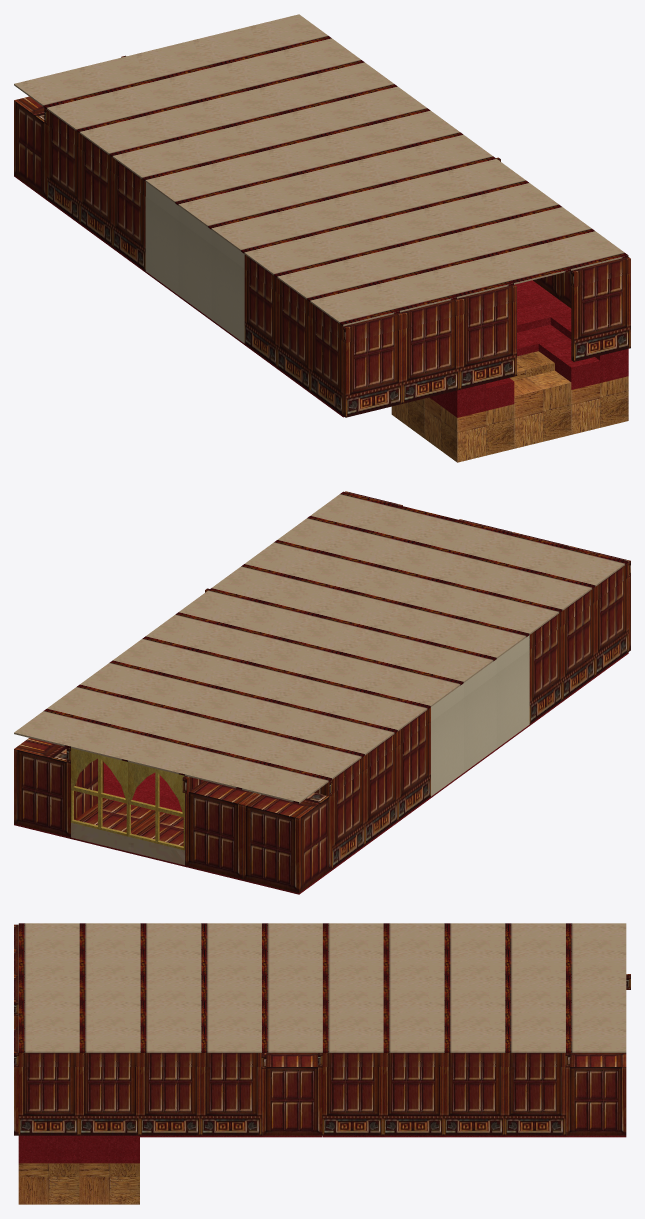
File: Library.fbx
3 views of the same model, one above another, from view 1: azimuth 30°, elevation 25°; view 2: azimuth 150°, elevation 25°; view 3: azimuth 270°, elevation 25° (orthographic). The views are drawn at different scales.
Visible parts, largest first — view 1: LibraryCeiling, LibraryStairs, LibraryWallB0Front.001, LibraryWallB0Left.002, LibraryWallB0Left, LibraryWallB0Left.001, LibraryWallB0Front, LibraryWallB1Front, LibraryWallB0Right.005, LibraryWallB1Left, LibraryWallB1Left.001, LibraryWallB1Front.001 (+3 smaller); view 2: LibraryCeiling, LibraryWallB0Right.005, LibraryWallB0Left.002, LibraryWallB0Left, LibraryWallB0Left.001, LibraryWallB0Right.002, LibraryWallB0Right.003, LibraryWallB0Right.006, LibraryFloor.001, LibraryWallB1Left, LibraryWallB1Left.001, LibraryFloor; view 3: LibraryCeiling, LibraryWallB0Right.001, LibraryWallB0Right, LibraryStairs, LibraryWallB0Right.002, LibraryWallB0Right.004, LibraryWallB1Right.001, LibraryWallB1Right, LibraryFloor.001, LibraryWallB1Front.
Part boxes in pixels (box(x1,y1,x2,y2)): LibraryCeiling: box(14, 14, 628, 326); LibraryStairs: box(391, 299, 628, 462); LibraryWallB0Front.001: box(343, 301, 516, 417); LibraryWallB0Left.002: box(145, 182, 244, 343); LibraryWallB0Left: box(244, 269, 343, 415); LibraryWallB0Left.001: box(47, 124, 145, 270); LibraryWallB0Front: box(571, 273, 630, 361); LibraryWallB1Front: box(343, 284, 516, 342); LibraryWallB0Right.005: box(14, 96, 46, 198); LibraryWallB1Left: box(244, 254, 347, 340); LibraryWallB1Left.001: box(47, 110, 145, 196); LibraryWallB1Front.001: box(571, 257, 630, 287); LibraryCeiling: box(14, 491, 628, 803); LibraryWallB0Right.005: box(185, 780, 331, 892); LibraryWallB0Left.002: box(431, 635, 529, 796); LibraryWallB0Left: box(529, 578, 628, 723); LibraryWallB0Left.001: box(332, 722, 430, 868); LibraryWallB0Right.002: box(14, 738, 103, 837); LibraryWallB0Right.003: box(71, 798, 184, 865); LibraryWallB0Right.006: box(71, 748, 184, 850); LibraryFloor.001: box(14, 763, 184, 866); LibraryWallB1Left: box(529, 563, 628, 649); LibraryWallB1Left.001: box(332, 707, 430, 794); LibraryFloor: box(185, 652, 628, 894); LibraryCeiling: box(18, 923, 626, 1052); LibraryWallB0Right.001: box(322, 1067, 565, 1135); LibraryWallB0Right: box(18, 1067, 261, 1135); LibraryStairs: box(18, 1135, 139, 1204); LibraryWallB0Right.002: box(565, 1053, 626, 1135); LibraryWallB0Right.004: box(261, 1053, 322, 1135); LibraryWallB1Right.001: box(322, 1053, 565, 1066); LibraryWallB1Right: box(18, 1053, 261, 1066); LibraryFloor.001: box(140, 1135, 626, 1137); LibraryWallB1Front: box(14, 924, 18, 1015).
Size of the model in its own units: 1015 by 555 by 2030.
